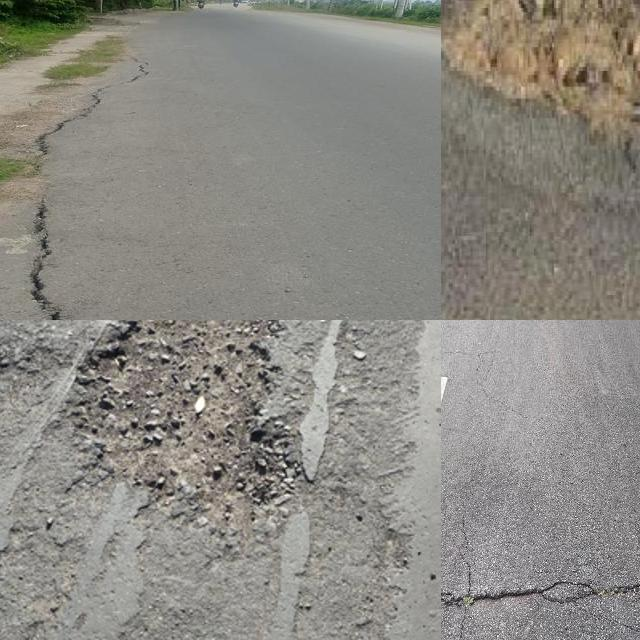Lubang: (91, 320, 289, 516), (441, 0, 640, 125)
Melintang: (441, 577, 640, 612)
Memanjang: (27, 54, 166, 320)
